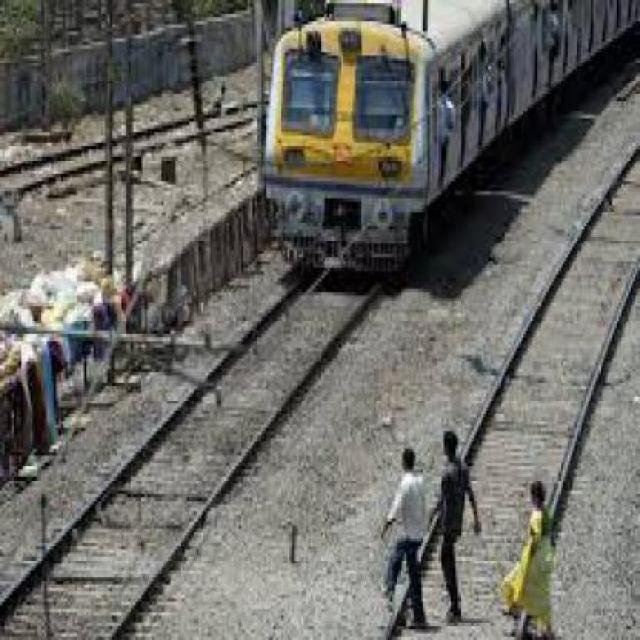Manusia: (380, 438, 432, 633), (511, 476, 563, 636), (439, 428, 479, 623)
